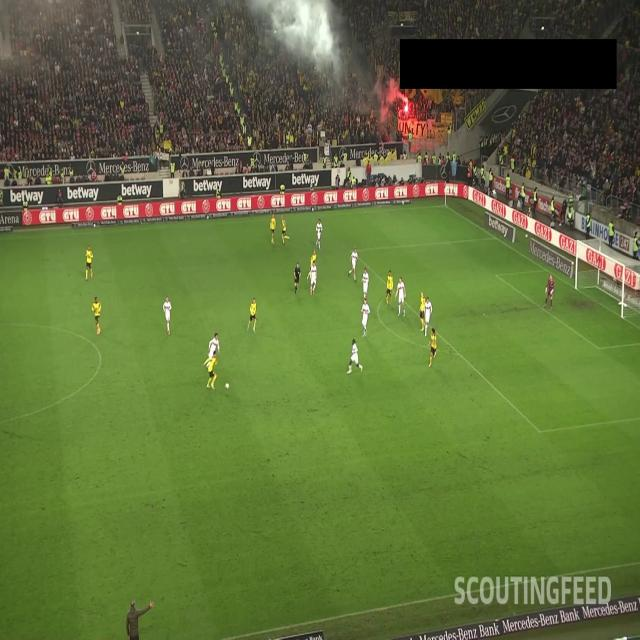Ball: (224, 382, 230, 390)
GoalKeeper: (544, 273, 554, 310)
Referee: (294, 263, 302, 293)
TEAM 1: (202, 350, 218, 391), (428, 325, 438, 370), (92, 296, 102, 336), (247, 298, 257, 334), (279, 215, 291, 245), (386, 269, 394, 307), (85, 244, 93, 280), (419, 292, 426, 332), (307, 251, 316, 282), (270, 213, 276, 245)
TEAM 2: (347, 340, 363, 375), (395, 276, 406, 318), (162, 296, 173, 336), (208, 332, 220, 366), (423, 296, 433, 336), (360, 299, 370, 337), (348, 247, 358, 282), (309, 262, 318, 296), (316, 218, 323, 252), (361, 269, 368, 300)
